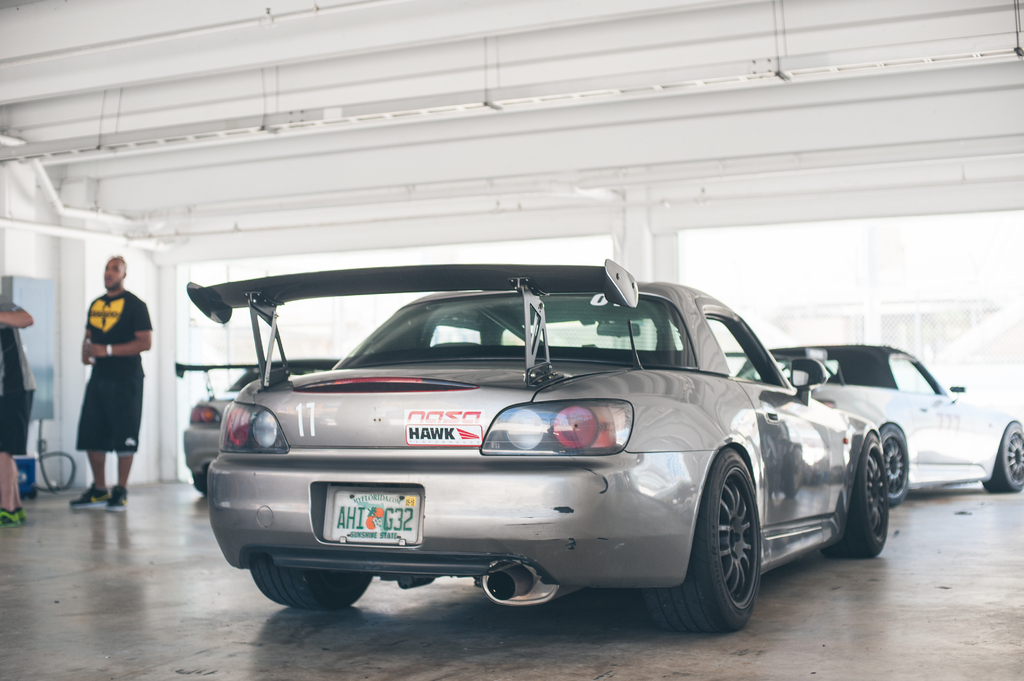Car: (158, 261, 958, 625), (770, 345, 1023, 506), (176, 359, 339, 499)
